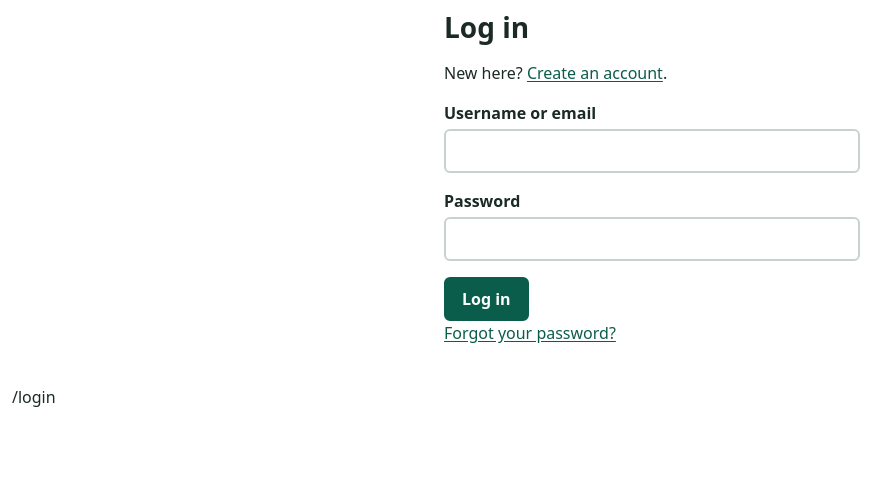
Login page › removes an old message when the form is sent again
Type "ronel" into the field labelled "Username or email" at x=652, y=151, box [444, 129, 860, 173]
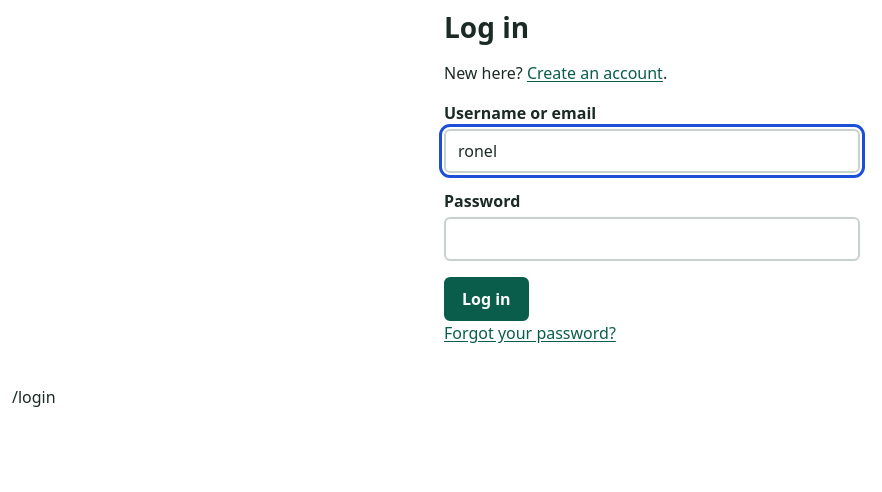
Type "wrong-pw" into the password field labelled "Password" at x=652, y=239, box [444, 217, 860, 261]
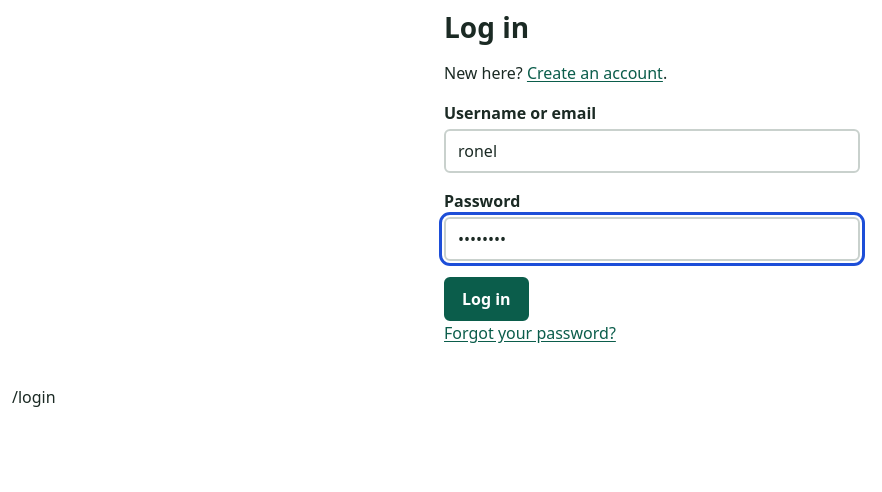
Click the button "Log in" at x=486, y=299, box [444, 277, 529, 321]
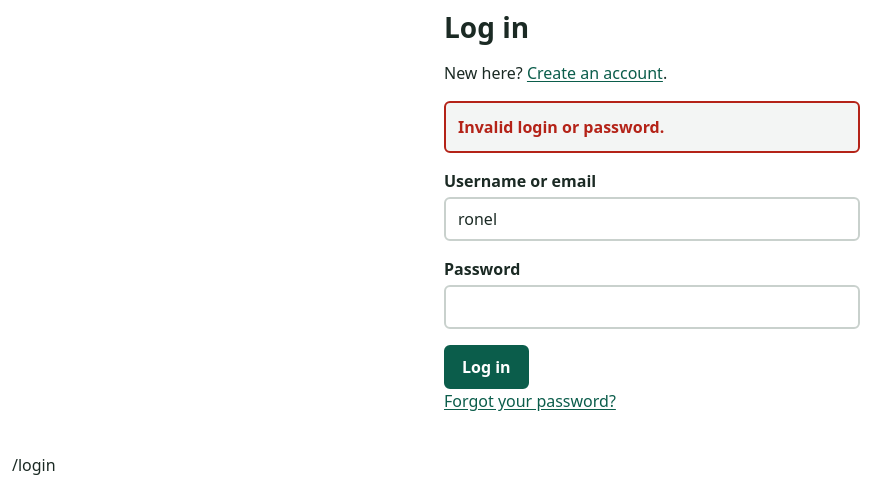
Result: the message "Invalid login or password." is shown at [444, 101, 860, 153]
Type "right-pw" into the password field labelled "Password" at x=652, y=307, box [444, 285, 860, 329]
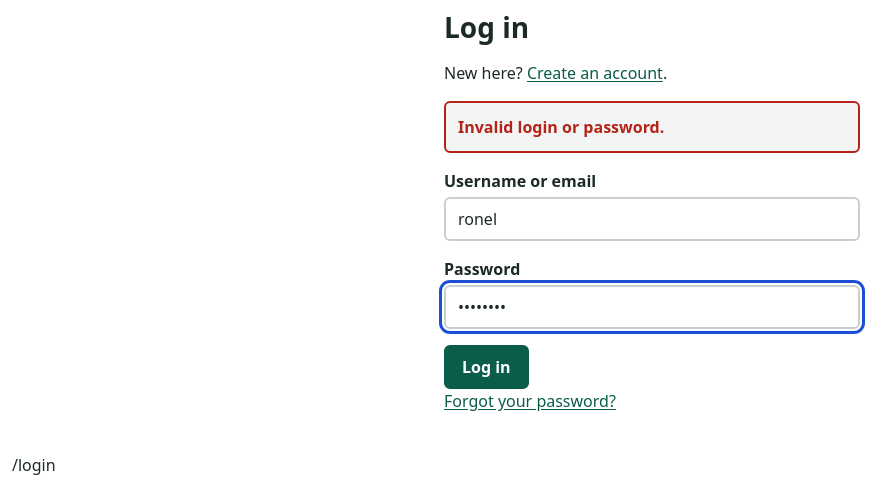
Click the button "Log in" at x=486, y=367, box [444, 345, 529, 389]
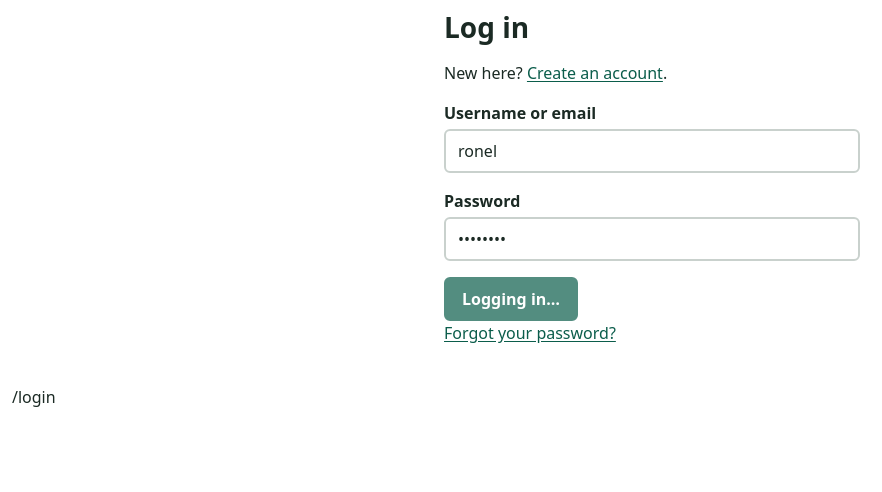
Result: the message "Invalid login or password." is gone
